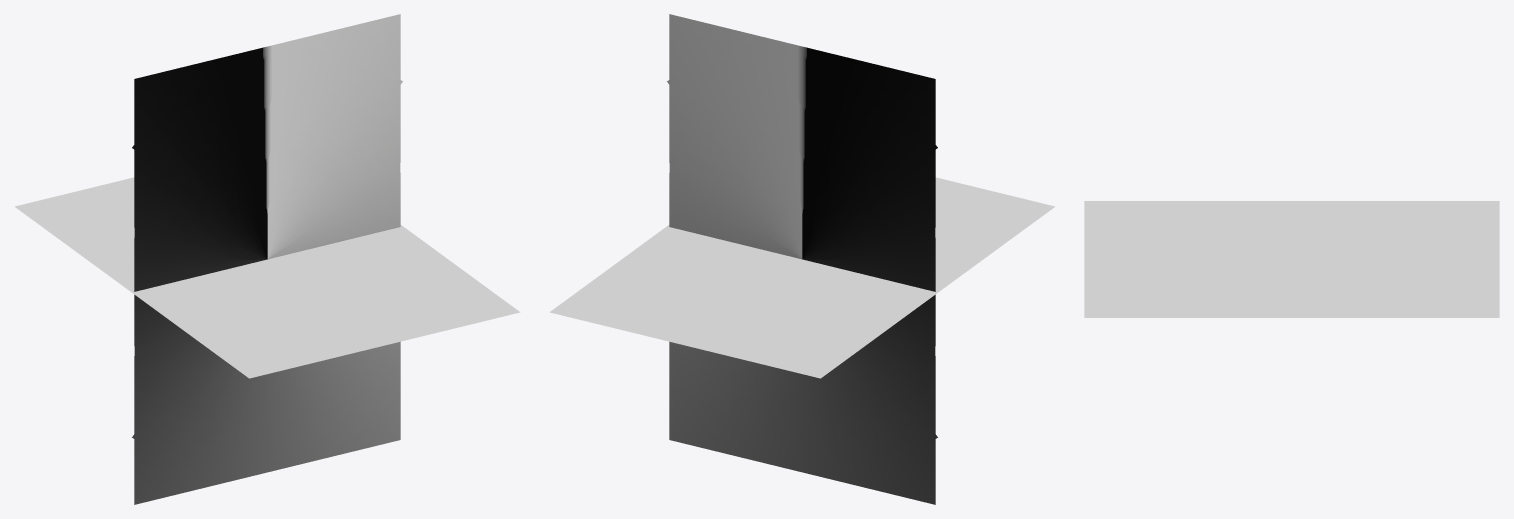
Rendered from RadialUV.fbx.
3 renders of one model, left to right at view 1: azimuth 30°, elevation 25°; view 2: azimuth 150°, elevation 25°; view 3: azimuth 270°, elevation 25°, orthographic. The views are drawn at different scales.
Visible parts, largest first — view 1: RadialUV_Door, Plane; view 2: RadialUV_Door, Plane; view 3: Plane.
Part boxes in pixels (left/top/right/bottom): RadialUV_Door: left=132, top=14, right=402, bottom=504; Plane: left=14, top=177, right=520, bottom=378; RadialUV_Door: left=667, top=14, right=937, bottom=504; Plane: left=549, top=177, right=1055, bottom=378; Plane: left=1084, top=201, right=1499, bottom=317.
Size of the model in its own units: 200 by 300 by 300.
